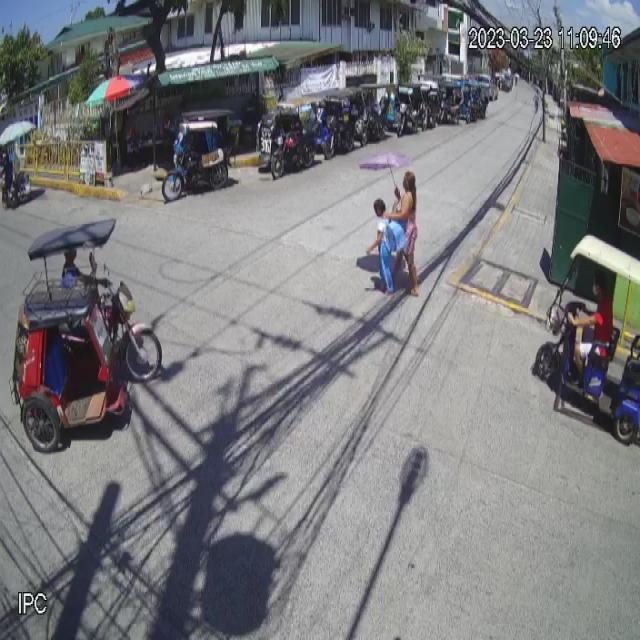Tricycle: (10, 218, 166, 454)
